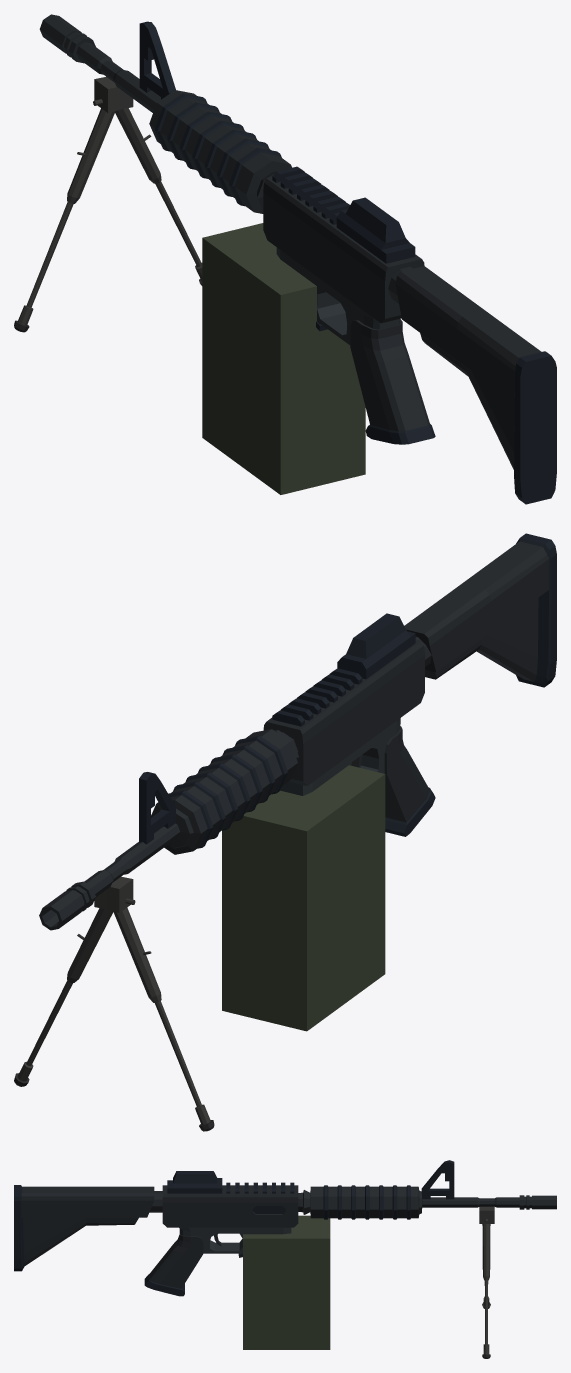
File: machine_gun.glb
3 views of the same model, one above another, from view 1: azimuth 30°, elevation 25°; view 2: azimuth 150°, elevation 25°; view 3: azimuth 270°, elevation 25° (orthographic). The views are drawn at different scales.
Parts seen in each view (by area): view 1: AssaultRifle2_1; view 2: AssaultRifle2_1; view 3: AssaultRifle2_1.
Boxes of the visible parts, <box> form: AssaultRifle2_1: <box>14,14,556,504</box>; AssaultRifle2_1: <box>14,533,556,1131</box>; AssaultRifle2_1: <box>14,1160,556,1358</box>.
Bounding box in the file's own units: 0.2446 × 0.3806 × 1.04.
Materials: 1 (1 with a texture image).
